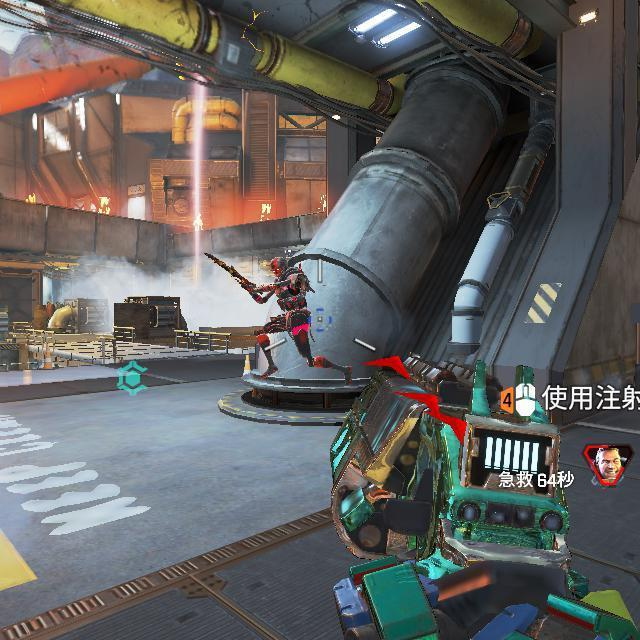avatar: (254, 256, 320, 378)
